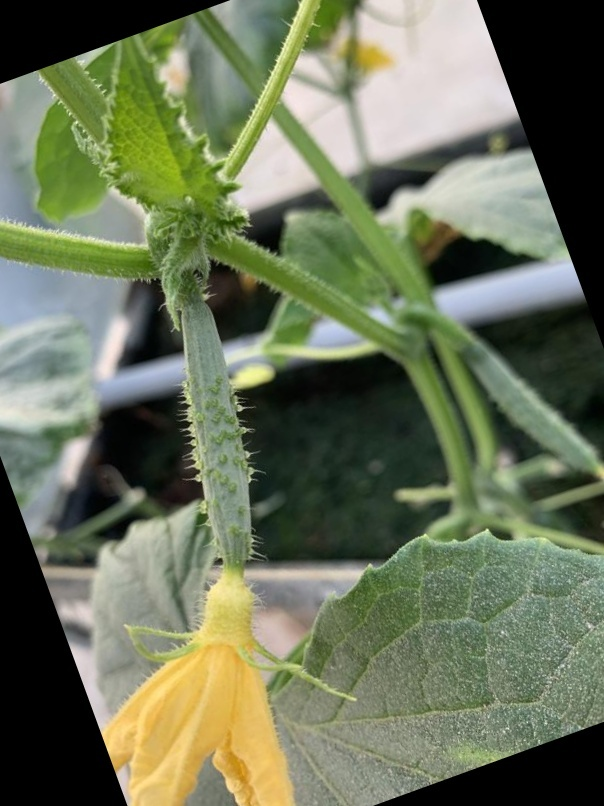bear: (157, 284, 331, 793)
flowering: (161, 290, 295, 785)
